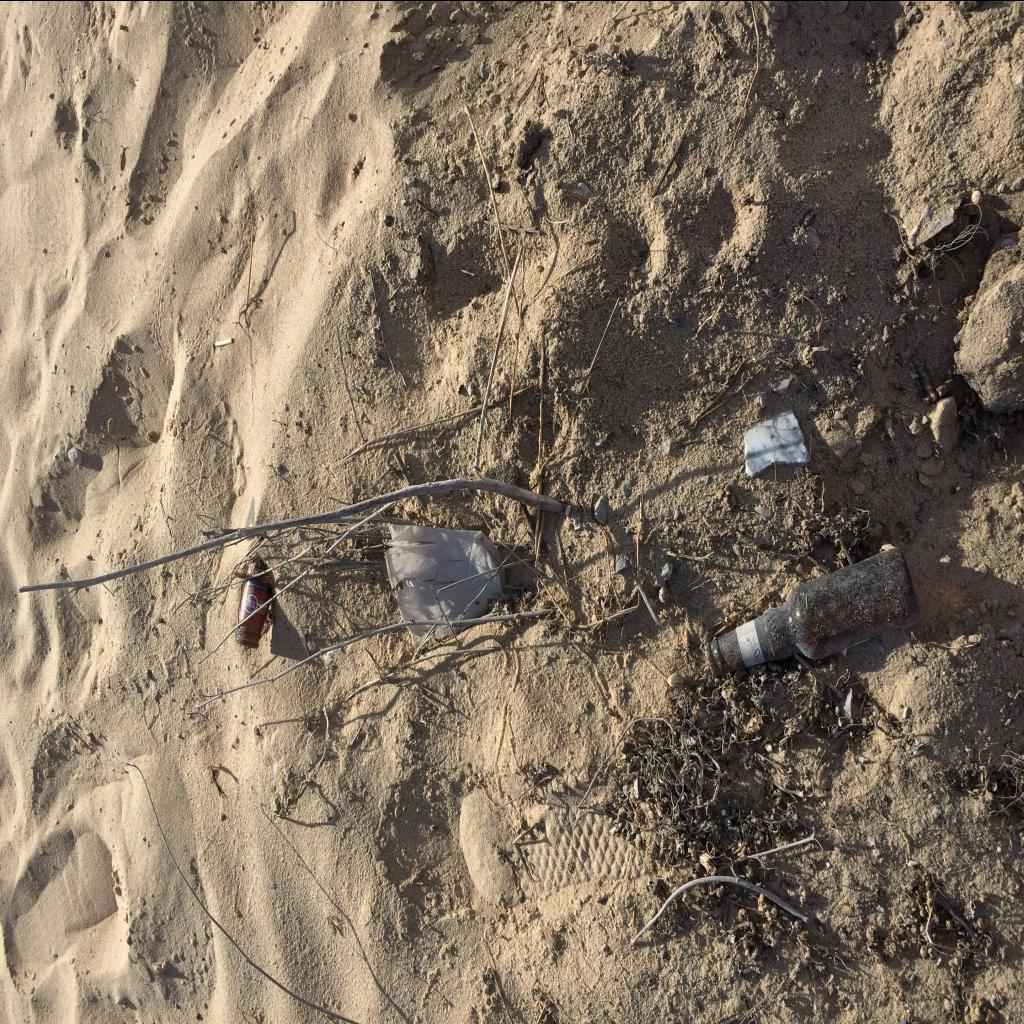Disposable plastic cup: (384, 521, 506, 643)
Glass bottle: (706, 546, 920, 676), (235, 559, 273, 648)
Unlabeled litter: (744, 408, 810, 476)
